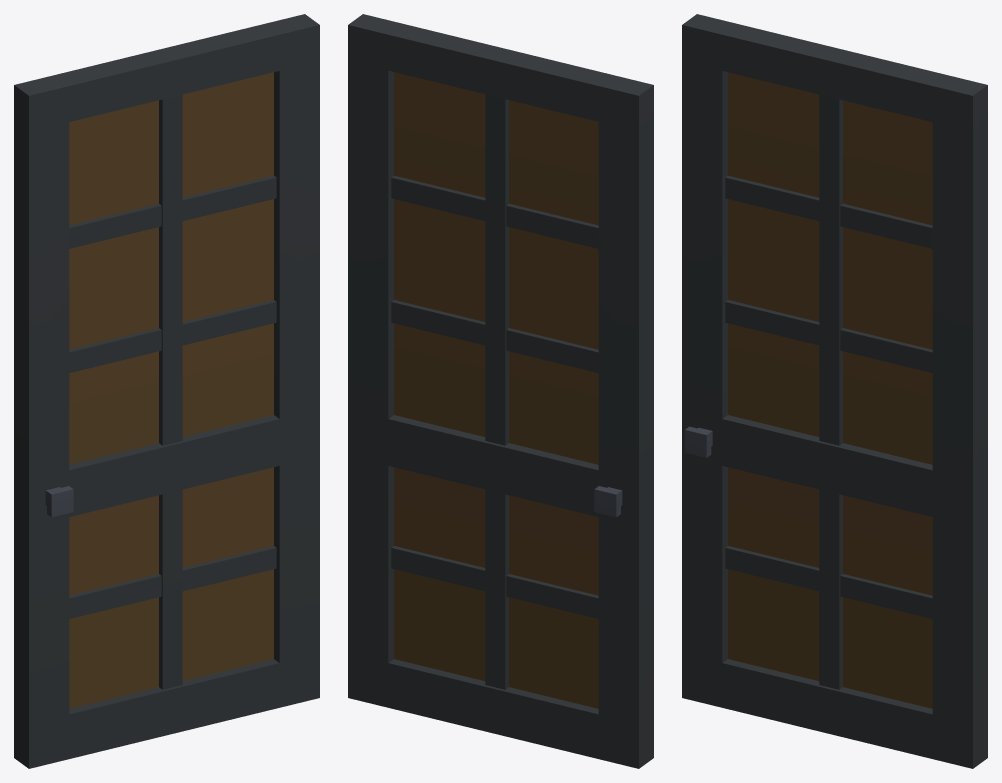
File: Door_04.fbx
3 renders of one model, left to right at view 1: azimuth 30°, elevation 25°; view 2: azimuth 150°, elevation 25°; view 3: azimuth 330°, elevation 25°, orthographic.
Parts seen in each view (by area): view 1: Door_04; view 2: Door_04; view 3: Door_04.
Part boxes in pixels (x1,y1,x2,y2): Door_04: [14, 14, 319, 768]; Door_04: [348, 14, 653, 768]; Door_04: [682, 14, 987, 768].
Size of the model in its own units: 0.9 by 1.99 by 0.1868.
